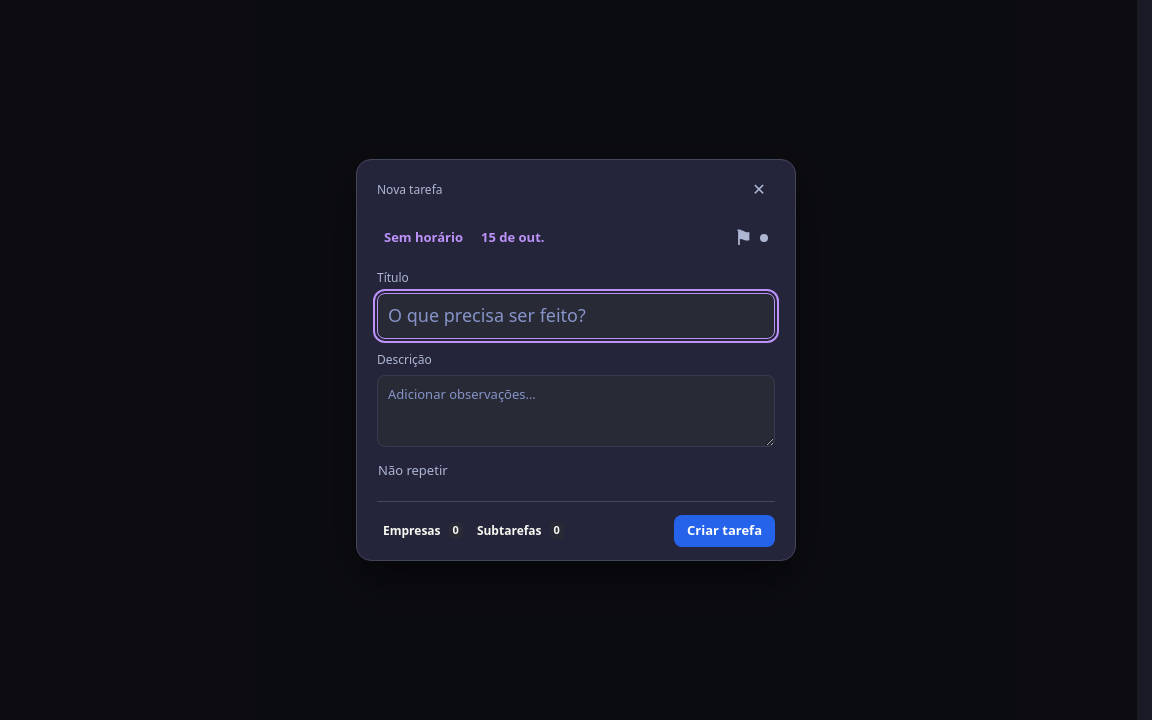
it: não aceita encerramento anterior ao início e conserva a configuração
The width and height of the screenshot is (1152, 720).
Type "Mensal" into the field labelled "Título".
click(576, 316); type("Mensal")  # box [377,293,775,339]
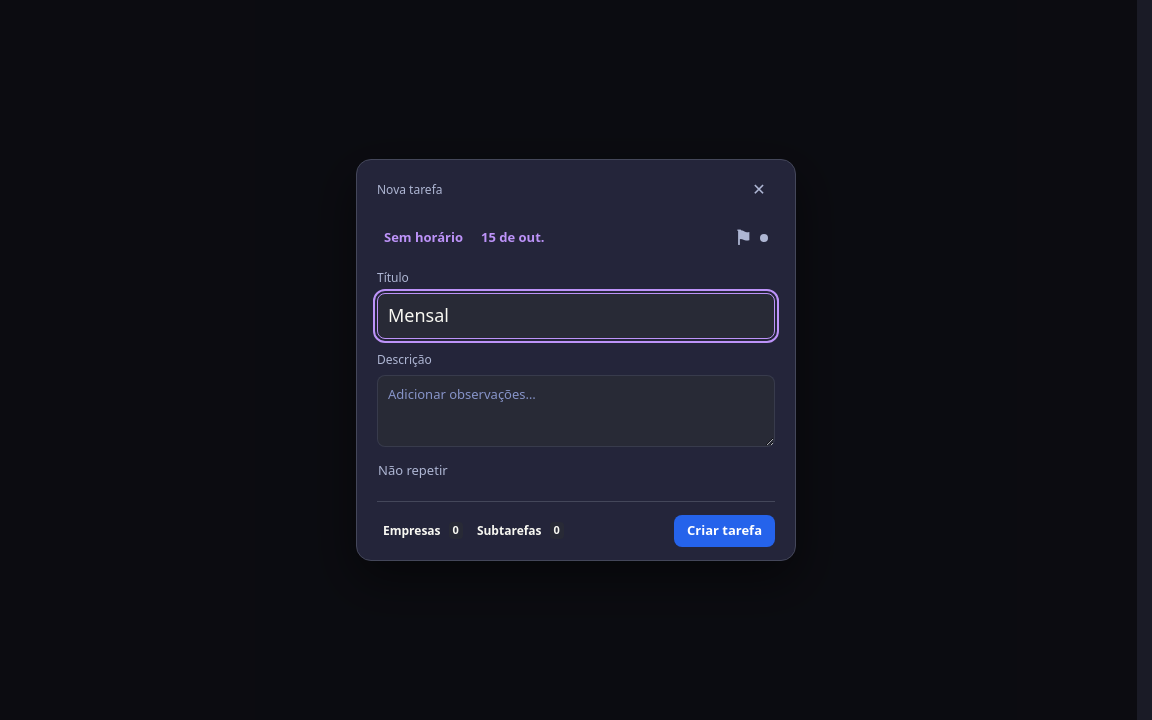
Click the button with aria-label "Data e repetição".
click(513, 238)  # box [474,222,552,254]
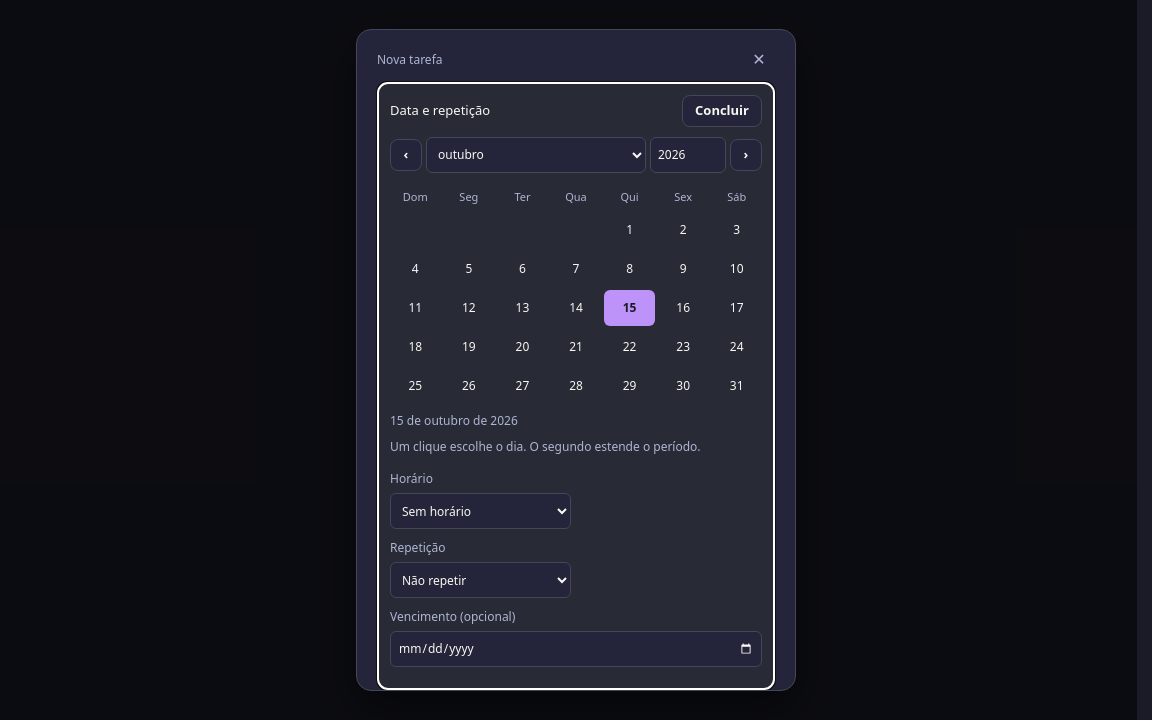
Select "Todo mês" in the dropdown labelled "Repetição" at (480, 580), box [390,562,571,598]
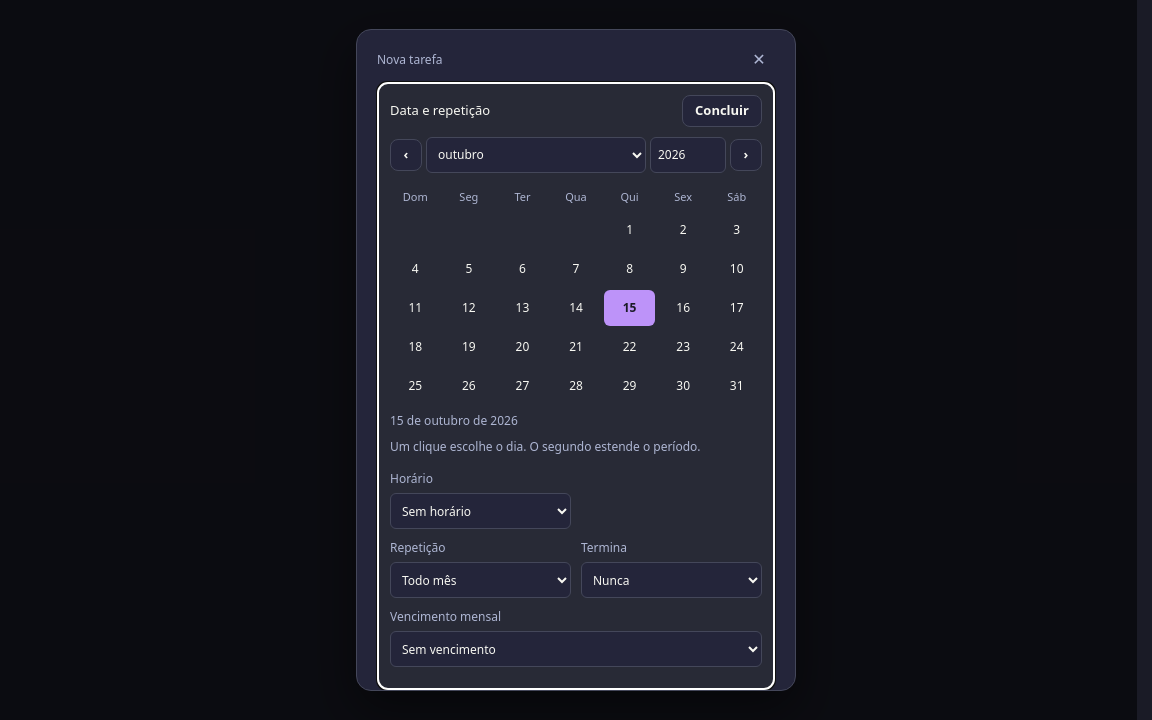
Select "Em uma data" in the dropdown labelled "Termina" at (672, 580), box [581,562,762,598]
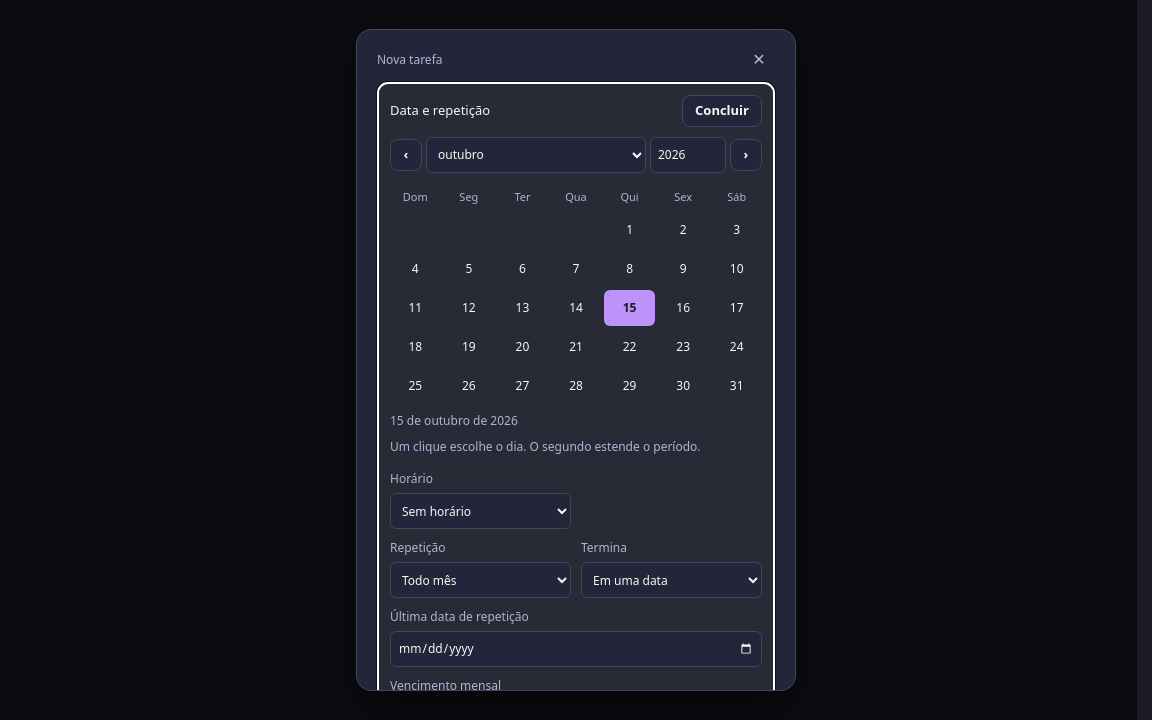
Type "2026-09-01" into the date field labelled "Última data de repetição".
click(576, 650); type("2026-09-01")  # box [390,632,762,668]
(page scrolled)
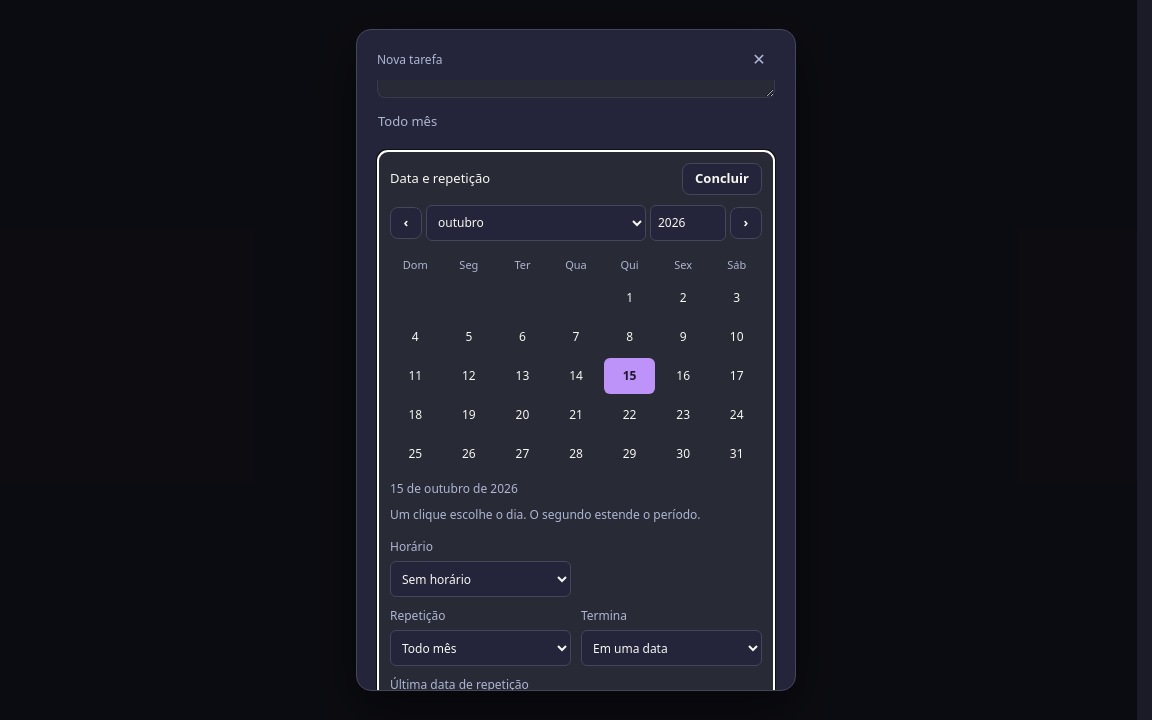
Submit the form named "Criar tarefa"
(page scrolled)
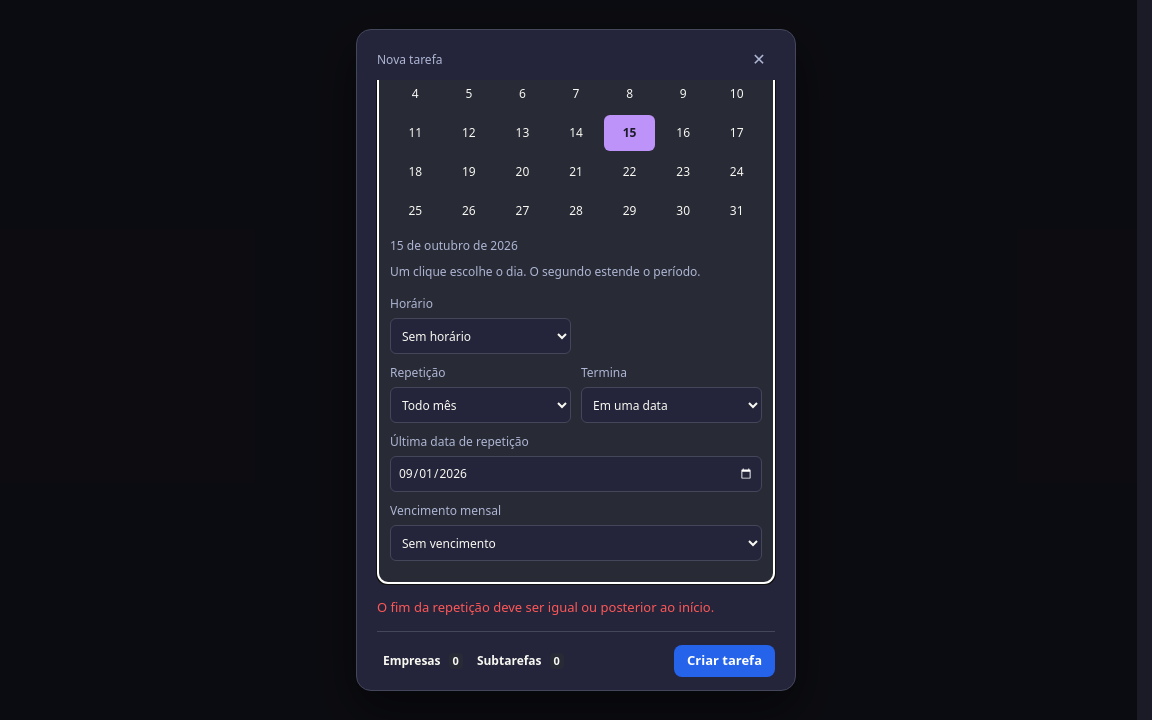
expect the message shows "igual ou posterior ao início": met, box [377,598,714,616]
